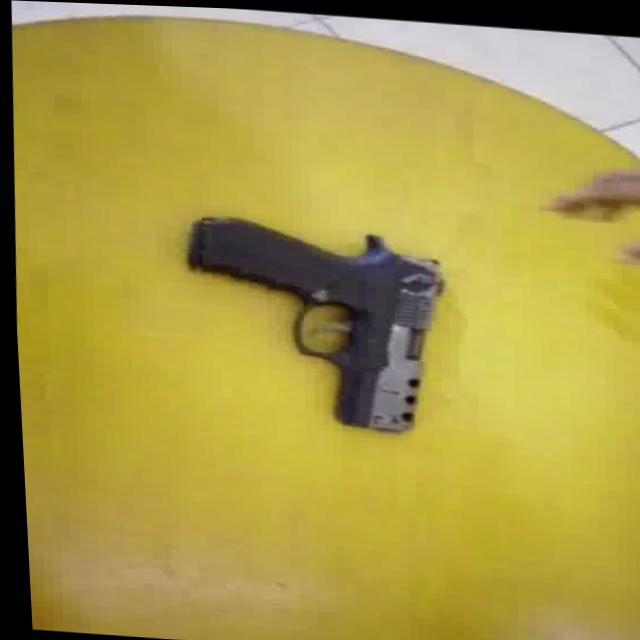weapon: (174, 210, 451, 432)
